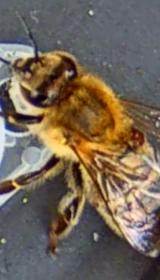varroa_mite: (122, 121, 148, 151)
